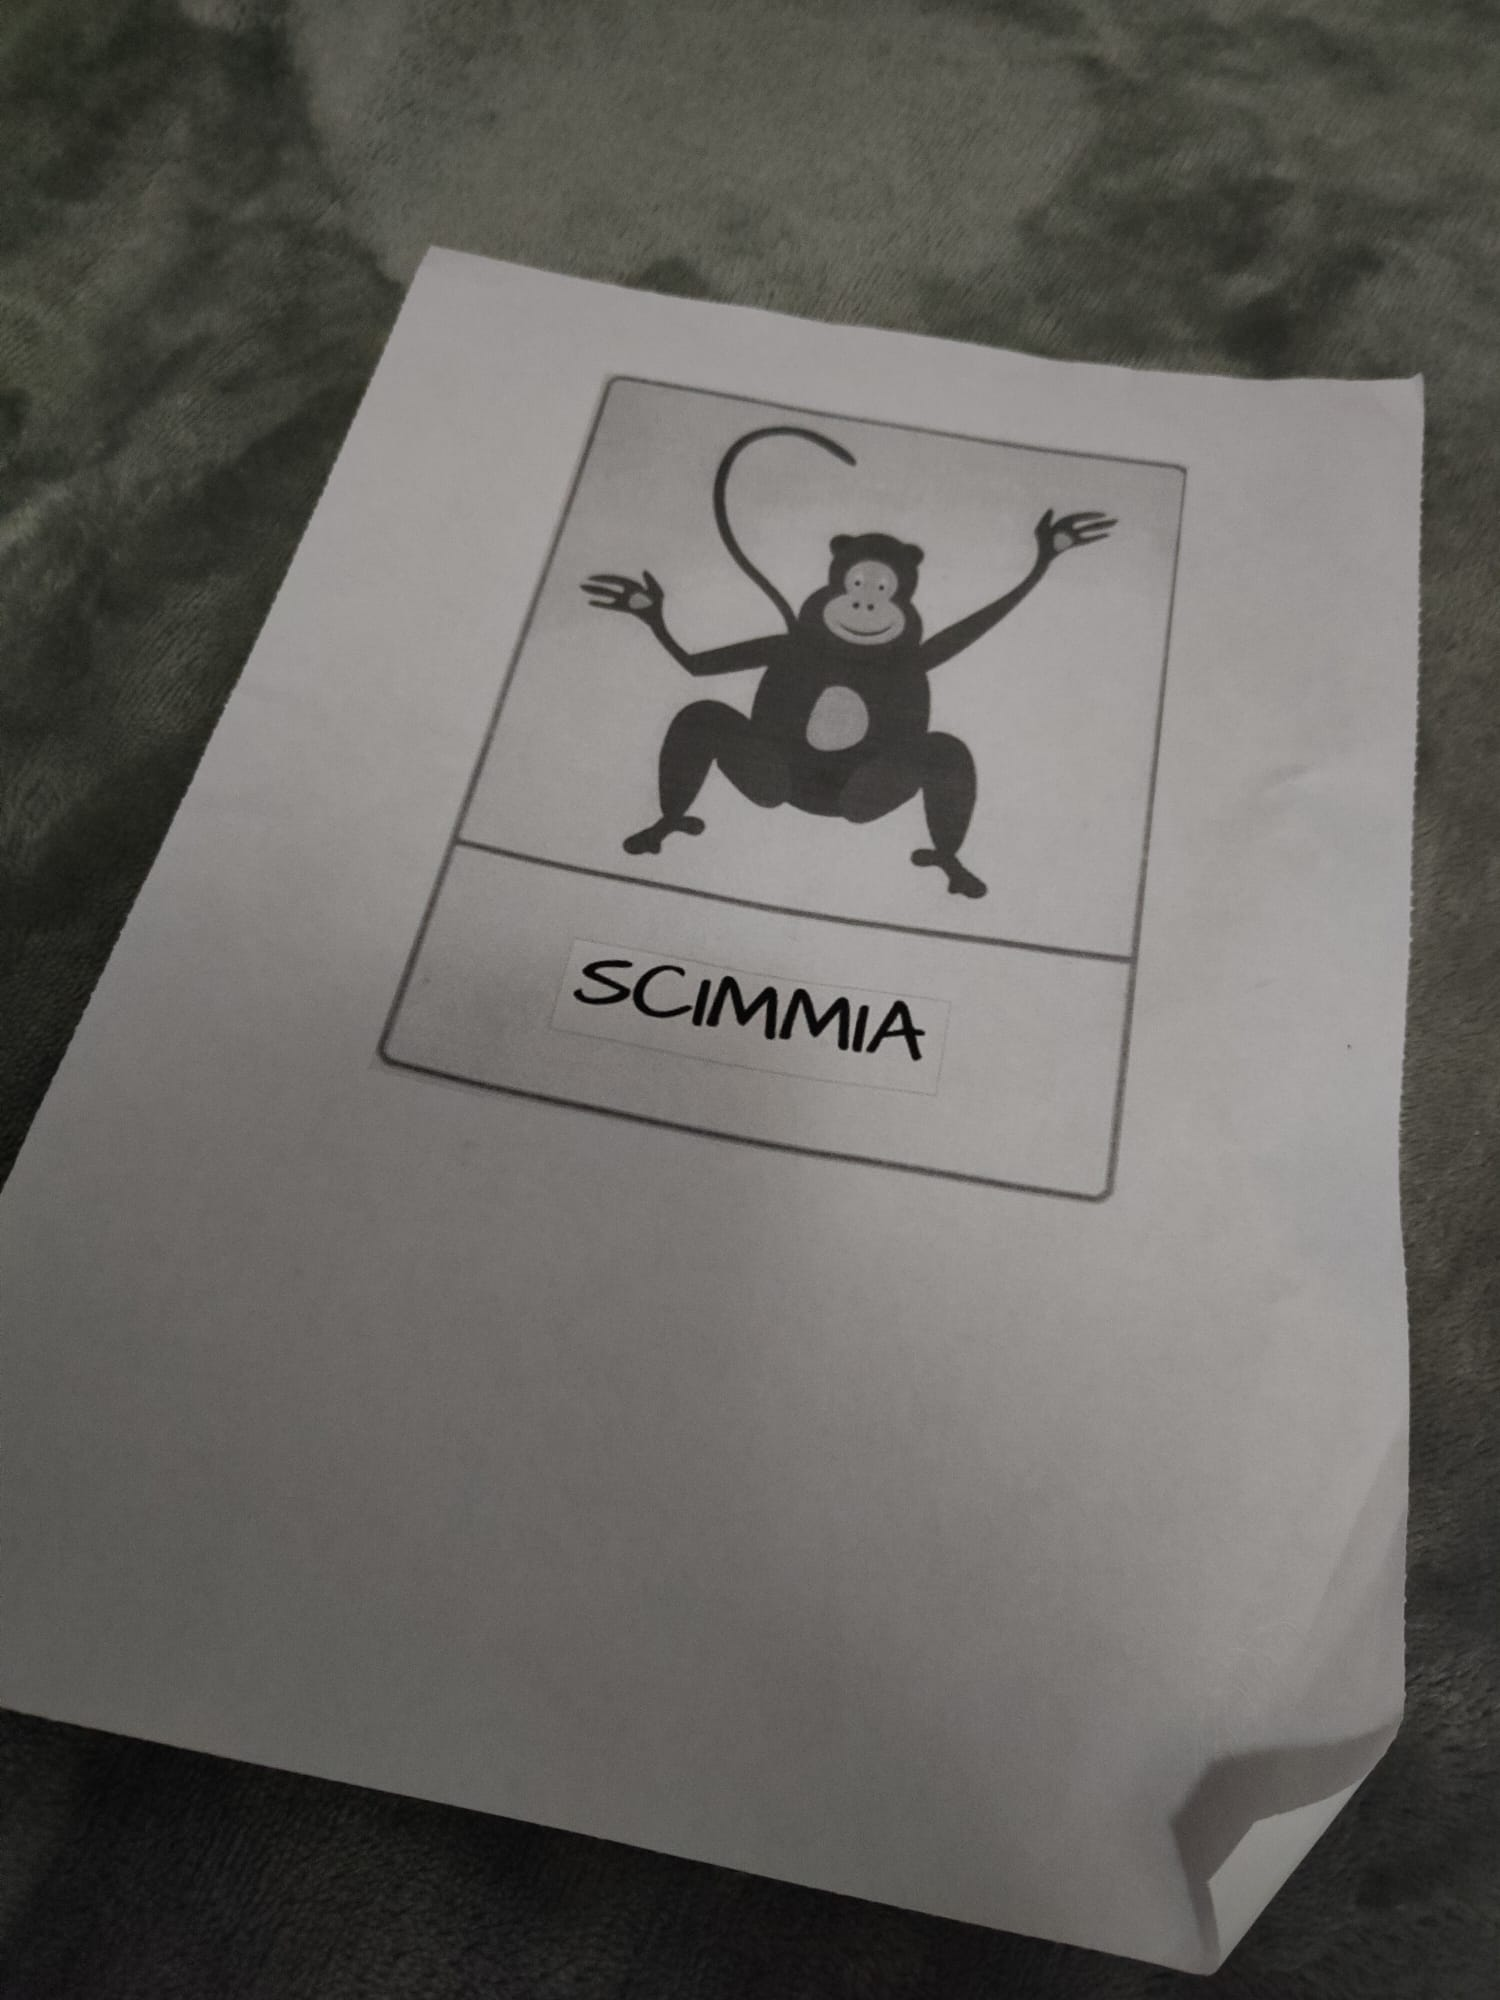scimmia: (562, 374, 1127, 1124)
